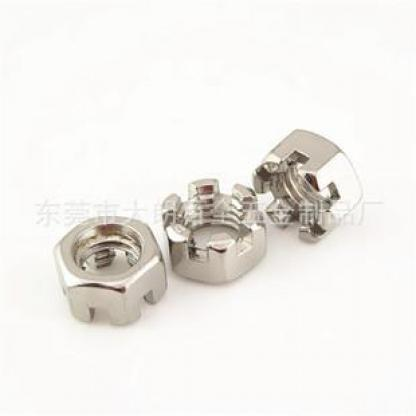FOD: (50, 210, 166, 332), (154, 173, 274, 286), (250, 126, 363, 242)
